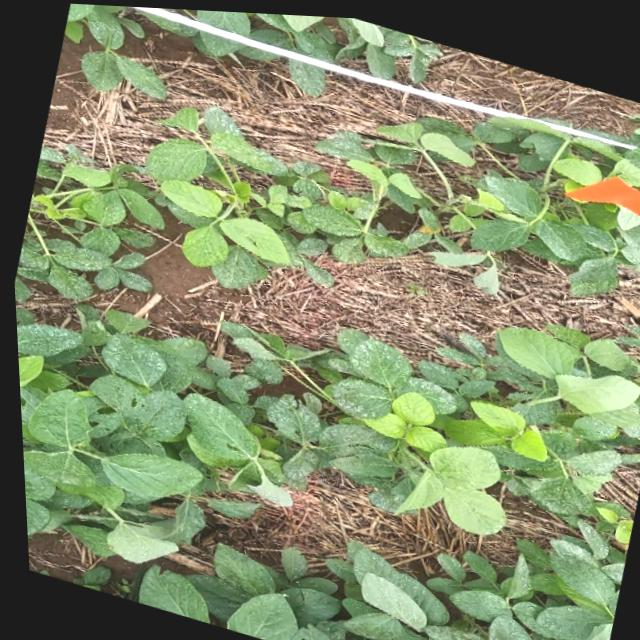soy_plant: (13, 305, 640, 640), (14, 103, 640, 295), (64, 3, 164, 95), (198, 8, 338, 57), (338, 14, 436, 72), (146, 11, 268, 56), (213, 9, 329, 43), (290, 58, 323, 91), (285, 12, 322, 27)
